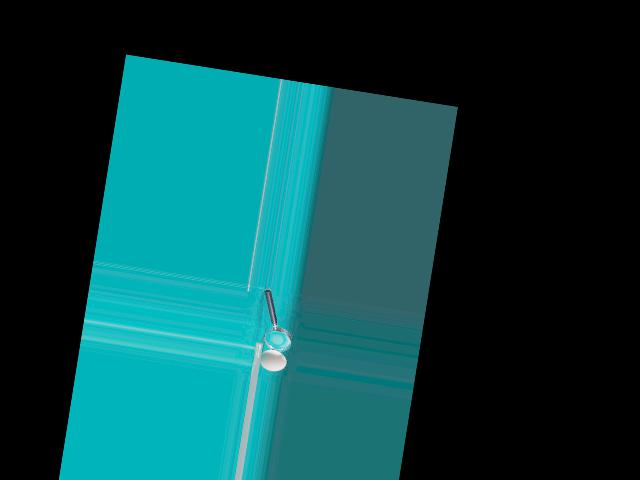egg: (258, 348, 288, 373)
